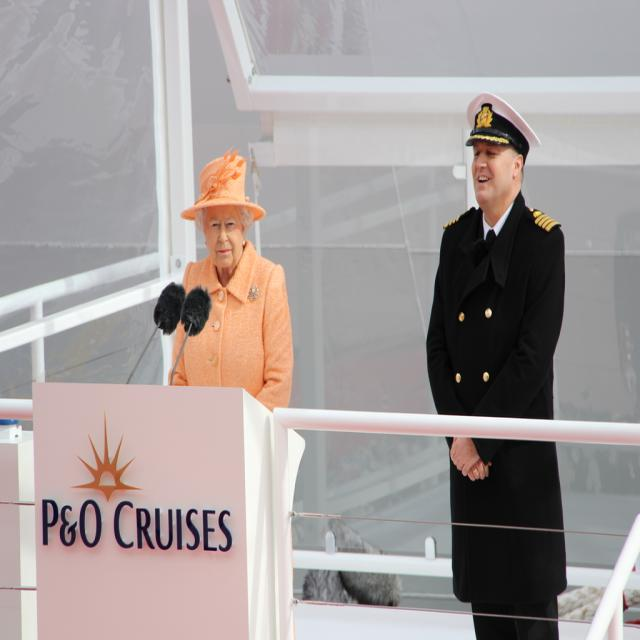Hat: (179, 143, 264, 222), (463, 90, 539, 160)
